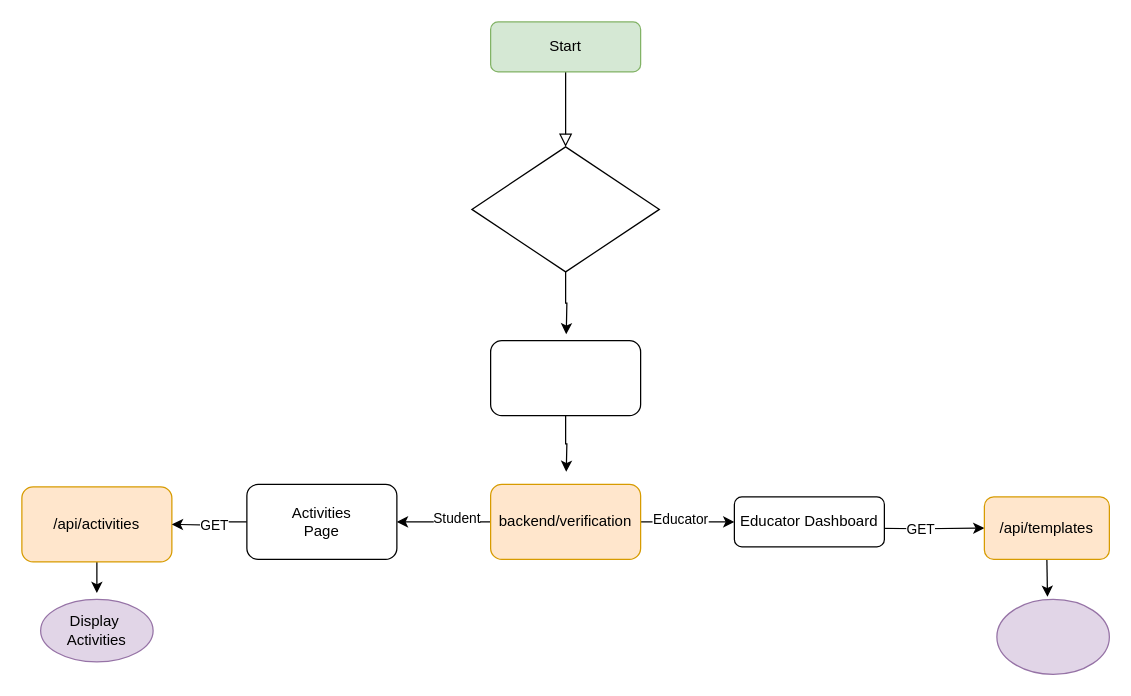
Some shapes in this 1131 by 696 pixel diagram are drawn without their labels. Each missing label, with the centre of its shape:
Authenticate: (x=565, y=209)
Display templates: (x=1052, y=636)
firebase: (x=565, y=377)
